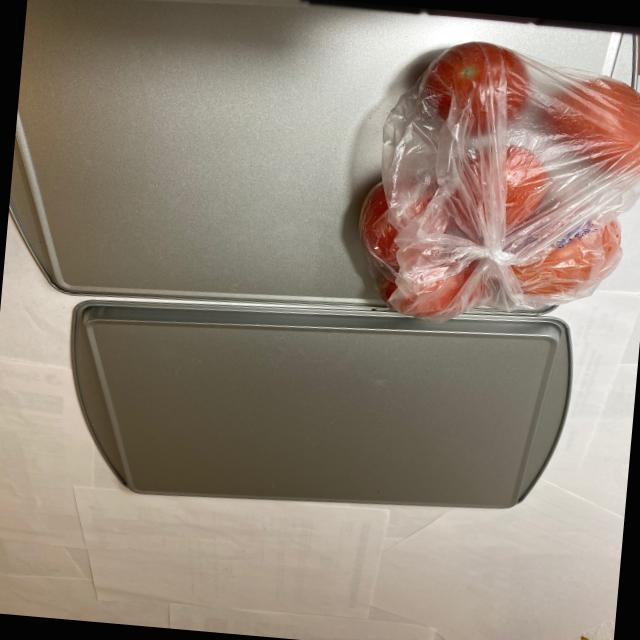tomato: (368, 34, 640, 341)
